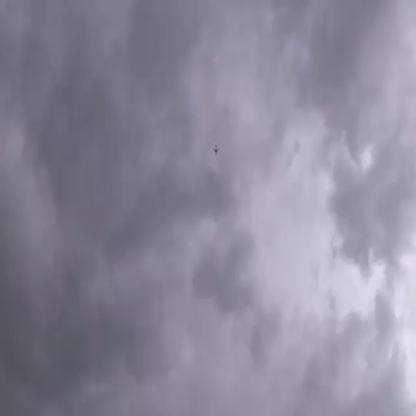CIV_Plane: (213, 144, 220, 156)
